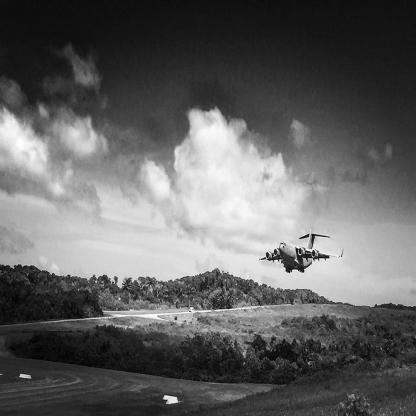C17: (259, 230, 345, 275)
